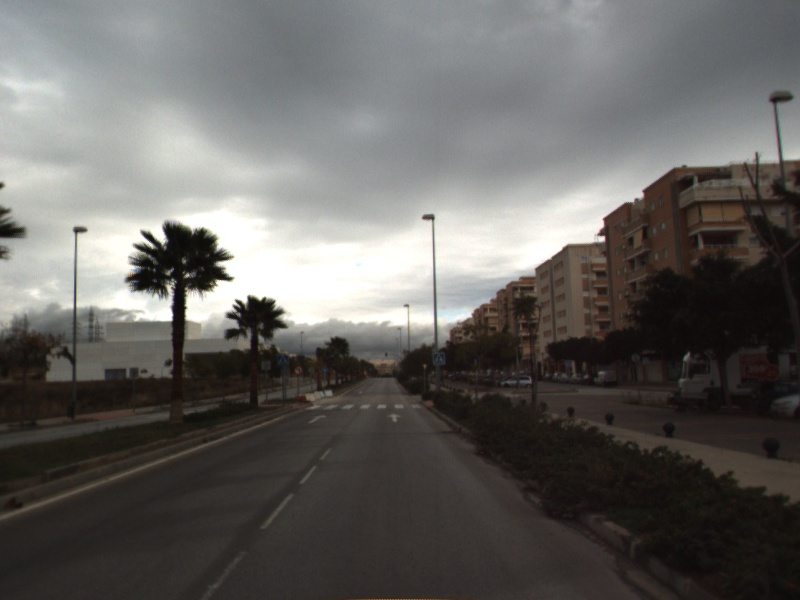STRAIGHT: (306, 412, 329, 425), (385, 411, 403, 423)
